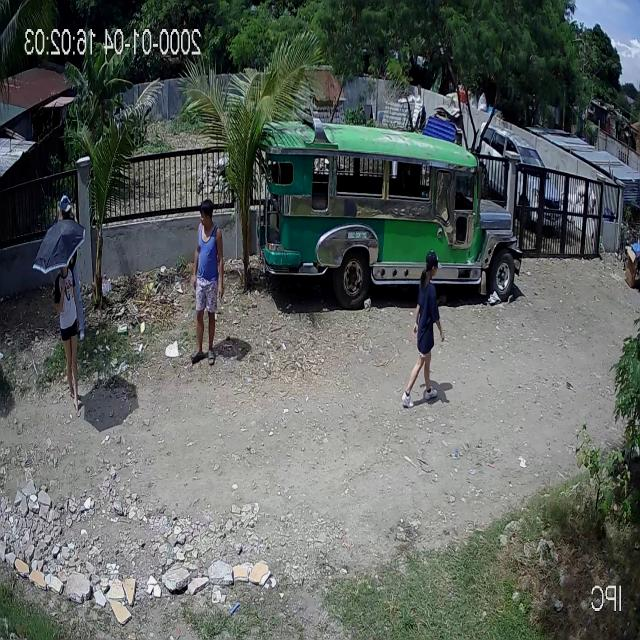standing: (54, 194, 86, 344)
walking: (186, 195, 223, 369), (401, 251, 438, 412), (54, 253, 88, 417)
